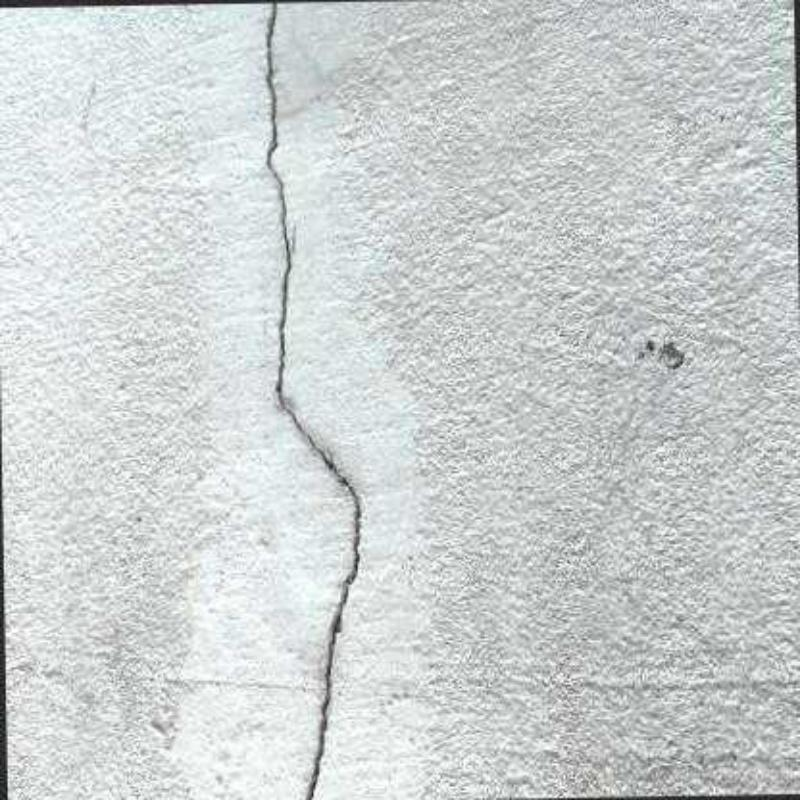crack: (266, 2, 361, 798)
